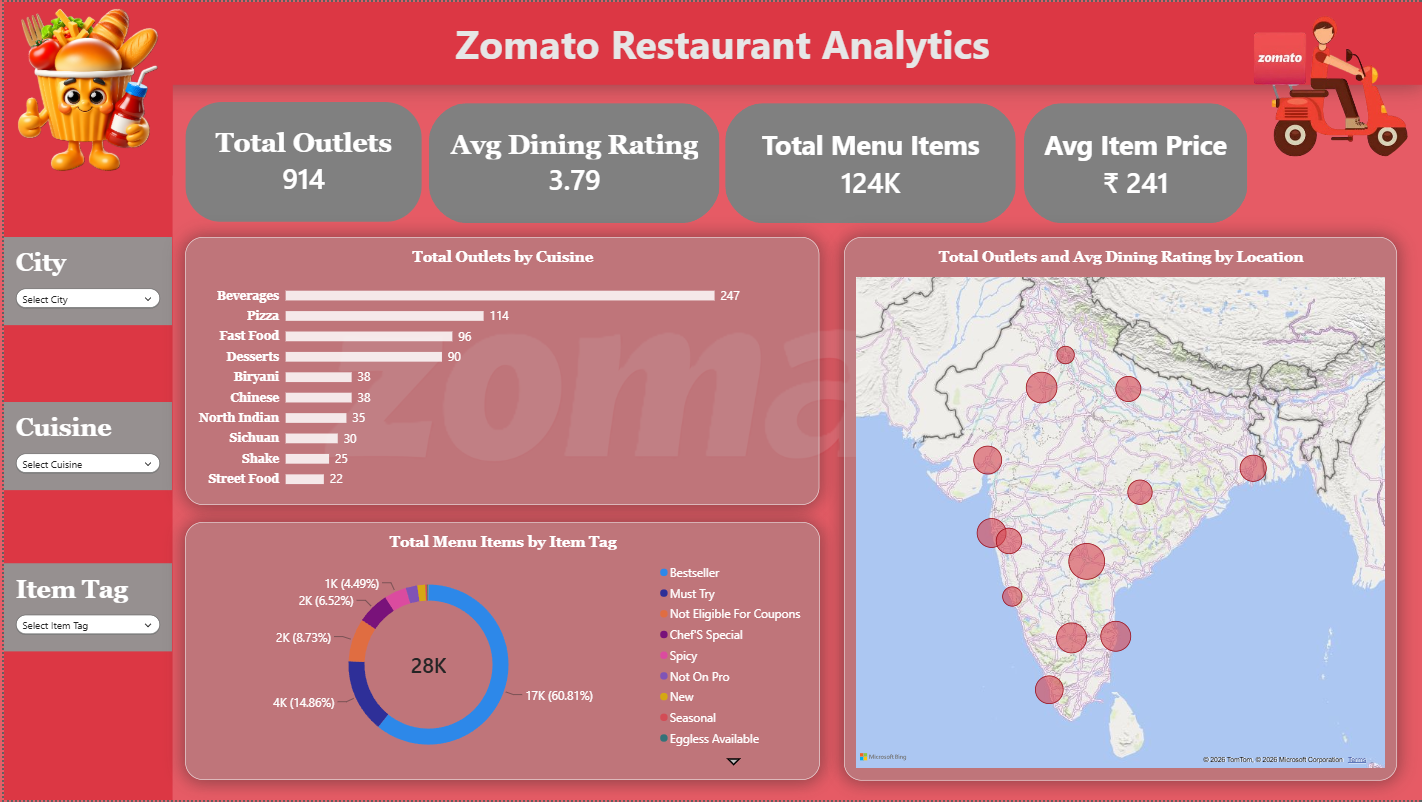

The page's visual inventory and layout, read from the dashboard file:
{"tool":"powerbi","page":{"name":"Overview","canvas":[1920,1080],"ordinal":0},"visuals":[{"type":"textbox","box":[0,0,1920.1,112],"z":0},{"type":"image","box":[1649.1,0,270.5,222.9],"z":1000},{"type":"textbox","box":[0,0,227.6,1080.4],"z":2000},{"type":"image","box":[0,0,227.6,240.7],"z":3000},{"type":"cardVisual","fields":{"Data":["Menu_Items.Total Outlets"]},"box":[245,135,320.3,162.3],"z":4000},{"type":"cardVisual","fields":{"Data":["Menu_Items.Avg Dining Rating"]},"box":[575,136.3,393.9,162.3],"z":5000},{"type":"cardVisual","fields":{"Data":["Menu_Items.Total Menu Items"]},"box":[975,136.3,393.9,162.3],"z":6000},{"type":"cardVisual","fields":{"Data":["Menu_Items.Avg Item Price"]},"box":[1380,136.3,303,162.3],"z":7000},{"type":"listSlicer","fields":{"Values":["dim_City.City"]},"box":[0,318.1,227.2,119],"z":8000},{"type":"listSlicer","fields":{"Values":["dim_Restaurant.Cuisine"]},"box":[0,541,227.2,119],"z":9000},{"type":"listSlicer","fields":{"Values":["Menu_Items.Item Tag"]},"box":[0,759.6,227.2,119],"z":10000},{"type":"donutChart","fields":{"Category":["Menu_Items.Item Tag"],"Y":["Menu_Items.Total Menu Items"]},"box":[244.4,703.5,858.3,348.9],"z":11000},{"type":"clusteredBarChart","fields":{"Category":["dim_Restaurant.Cuisine"],"Y":["Menu_Items.Total Outlets"]},"box":[245.3,317.9,857.6,362.7],"z":12000},{"type":"map","fields":{"Category":["dim_City.Location"],"Size":["Menu_Items.Total Outlets"]},"box":[1136.4,317.2,748.2,735.2],"z":13000},{"type":"pageNavigator","box":[14.9,852.7,197.8,72.8],"z":14000}]}

Visuals, with their boxes in screenshot pixels (x1, y1, x2, y2), scaled from the page's 1920x1080 canvas onto the 1422x802 screenshot:
textbox: (0,0,1421,83)
image: (1221,0,1421,166)
textbox: (0,0,169,801)
image: (0,0,169,179)
cardVisual - Menu_Items.Total Outlets: (181,100,419,221)
cardVisual - Menu_Items.Avg Dining Rating: (426,101,718,222)
cardVisual - Menu_Items.Total Menu Items: (722,101,1014,222)
cardVisual - Menu_Items.Avg Item Price: (1022,101,1246,222)
listSlicer - dim_City.City: (0,236,168,325)
listSlicer - dim_Restaurant.Cuisine: (0,402,168,490)
listSlicer - Menu_Items.Item Tag: (0,564,168,652)
donutChart - Menu_Items.Item Tag x Menu_Items.Total Menu Items: (181,522,817,782)
clusteredBarChart - dim_Restaurant.Cuisine x Menu_Items.Total Outlets: (182,236,817,505)
map - dim_City.Location x Menu_Items.Total Outlets: (842,236,1396,782)
pageNavigator: (11,633,158,687)
